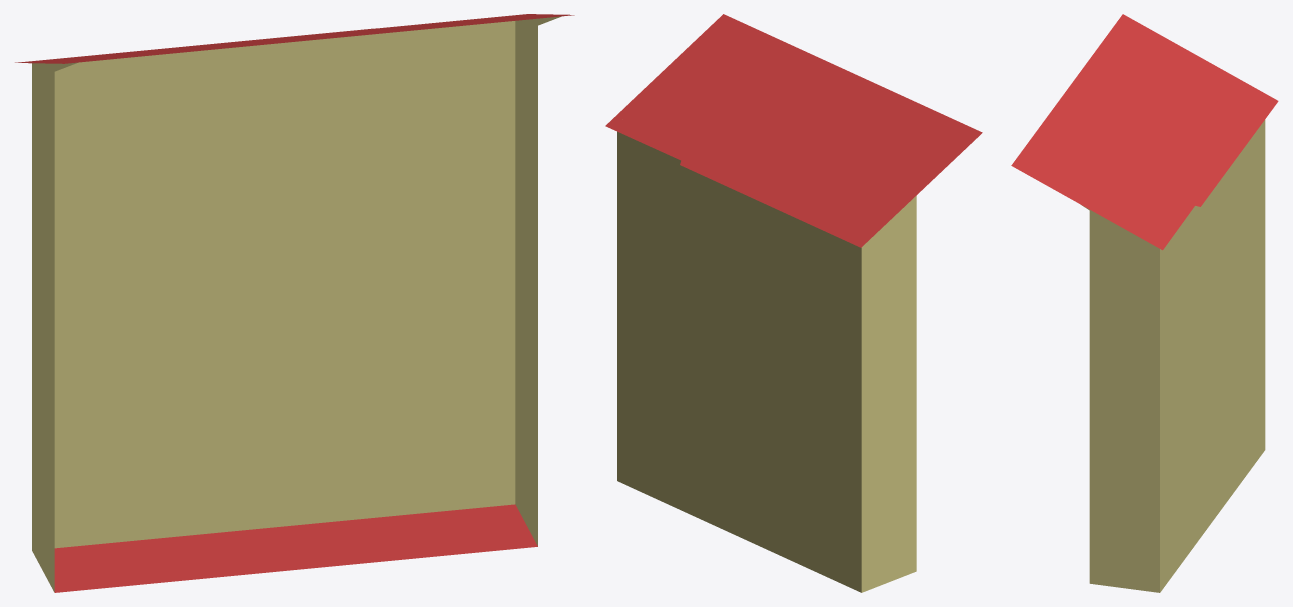
3 views of the same model, side by side, from view 1: azimuth 30°, elevation 25°; view 2: azimuth 150°, elevation 25°; view 3: azimuth 270°, elevation 25° (orthographic). The views are drawn at different scales.
Size of the model in its own units: 9.59 by 6.31 by 10.74.
